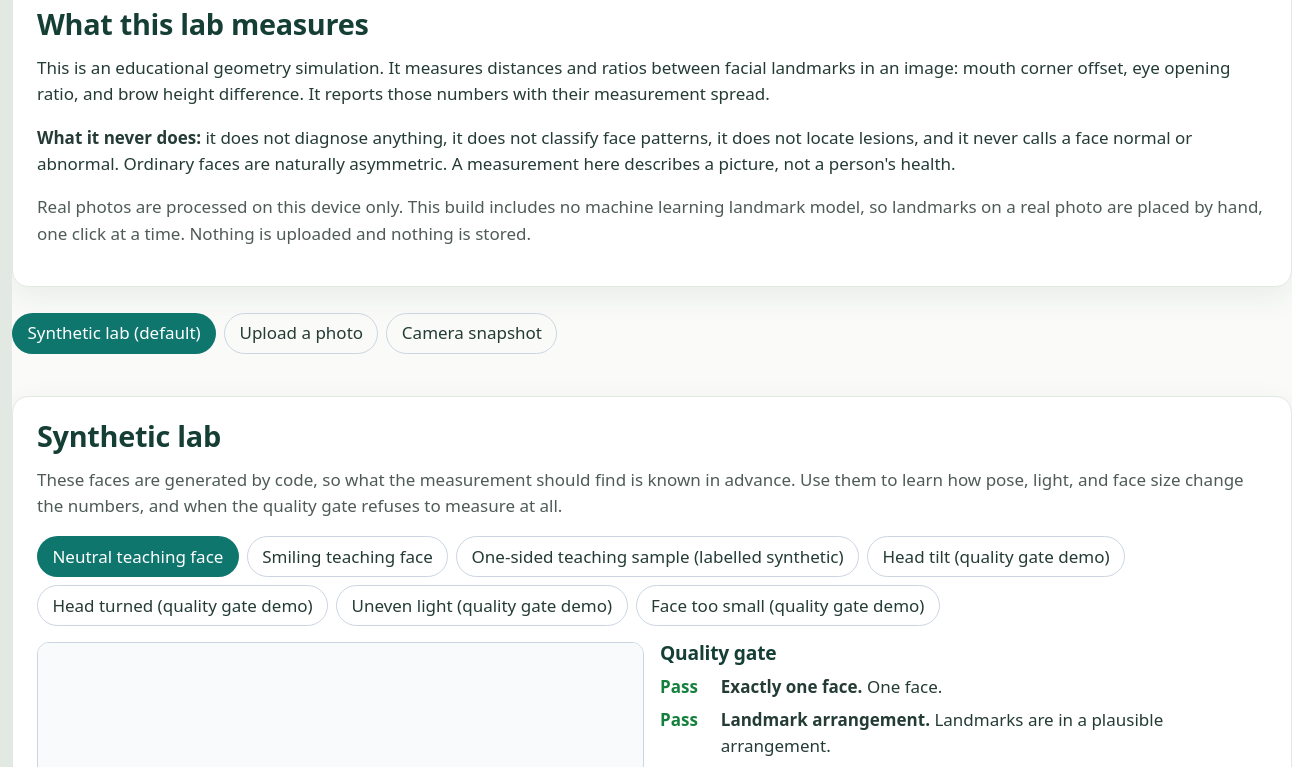
Scenario: FaceAnalyzerLab › shows the ground truth comparison for the one-sided teaching sample
Click the button "One-sided teaching sample (labelled synthetic)": (658, 557) [456,536,859,577]
(page scrolled)
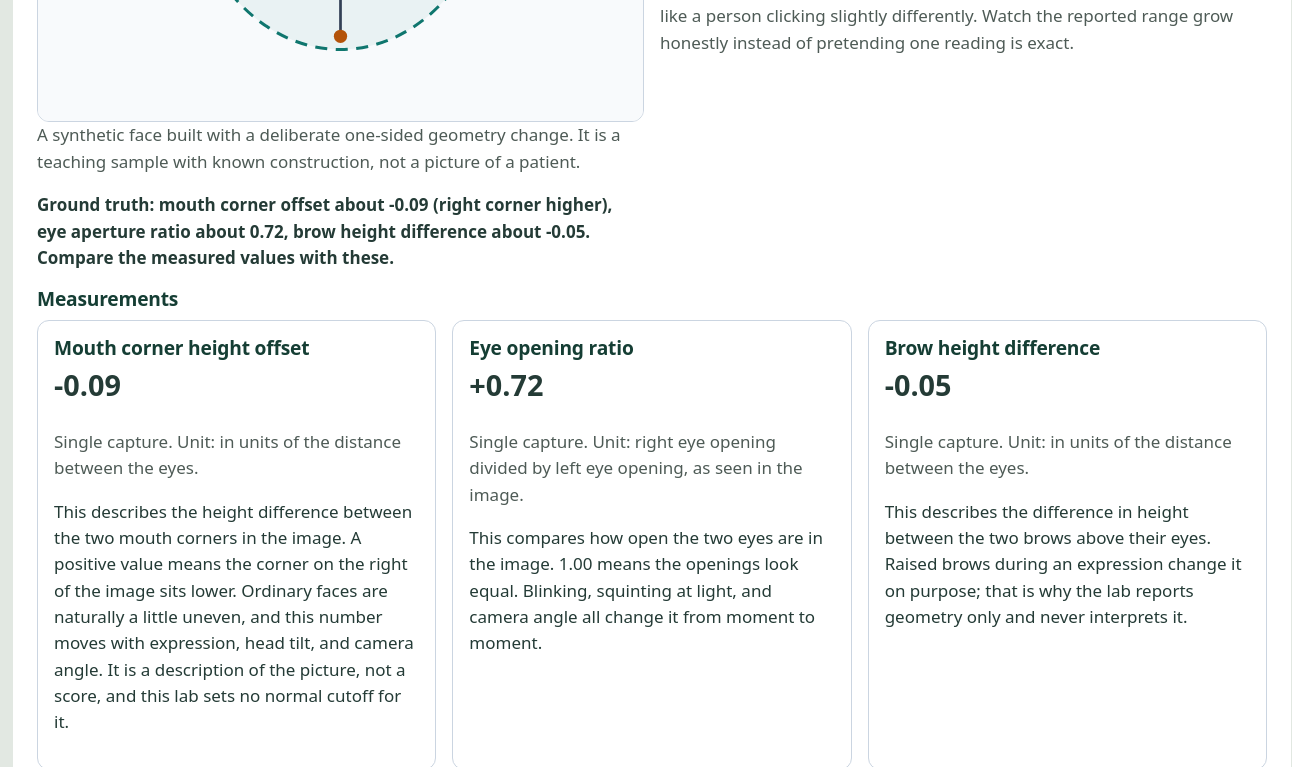
Now the text "Ground truth: mouth corner offset about -0.09" is shown, box [37,193,612,269]
Now the text "-0.09" is shown, box [54,364,121,404]
